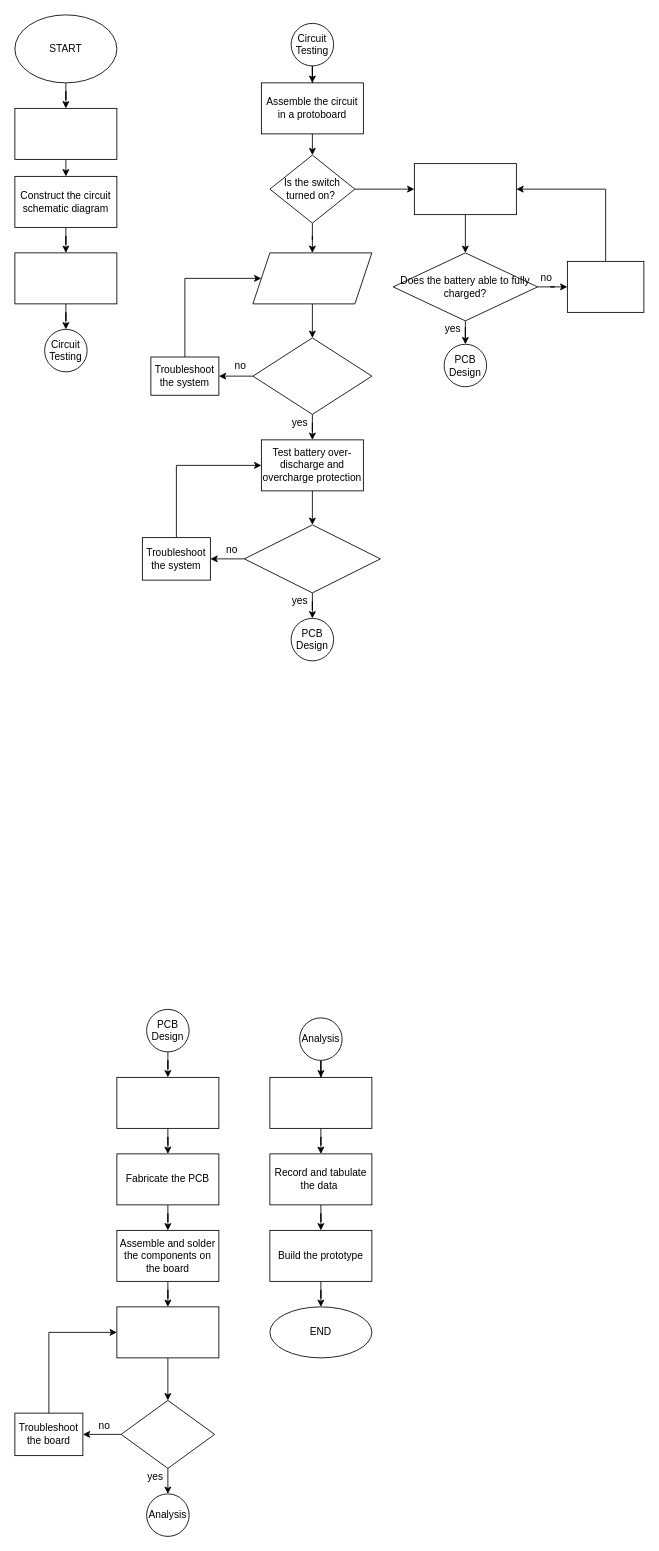
Some shapes in this 659 by 1551 pixel diagram are drawn without their labels. Each missing label, with the centre of its shape:
"Calibrate the solar panel to determine the exact output voltage" goes at (65,278).
"Charge the battery with input from the solar panel" goes at (465,189).
"Design the PCB layout using Proteus" goes at (167,1102).
"Determine the suitable components for the project" goes at (65,133).
"Do performance analysis of the system" goes at (320,1102).
"Does the circuit automatically cut off?" goes at (312,558).
"Is the board functioning?" goes at (167,1434).
"Is the output voltage/current around 5V/1A?" goes at (312,375).
"Output voltage through USB adapter" goes at (312,278).
"Test the functionality of the board" goes at (167,1332).
"Troubleshoot the circuit" goes at (605,286).
